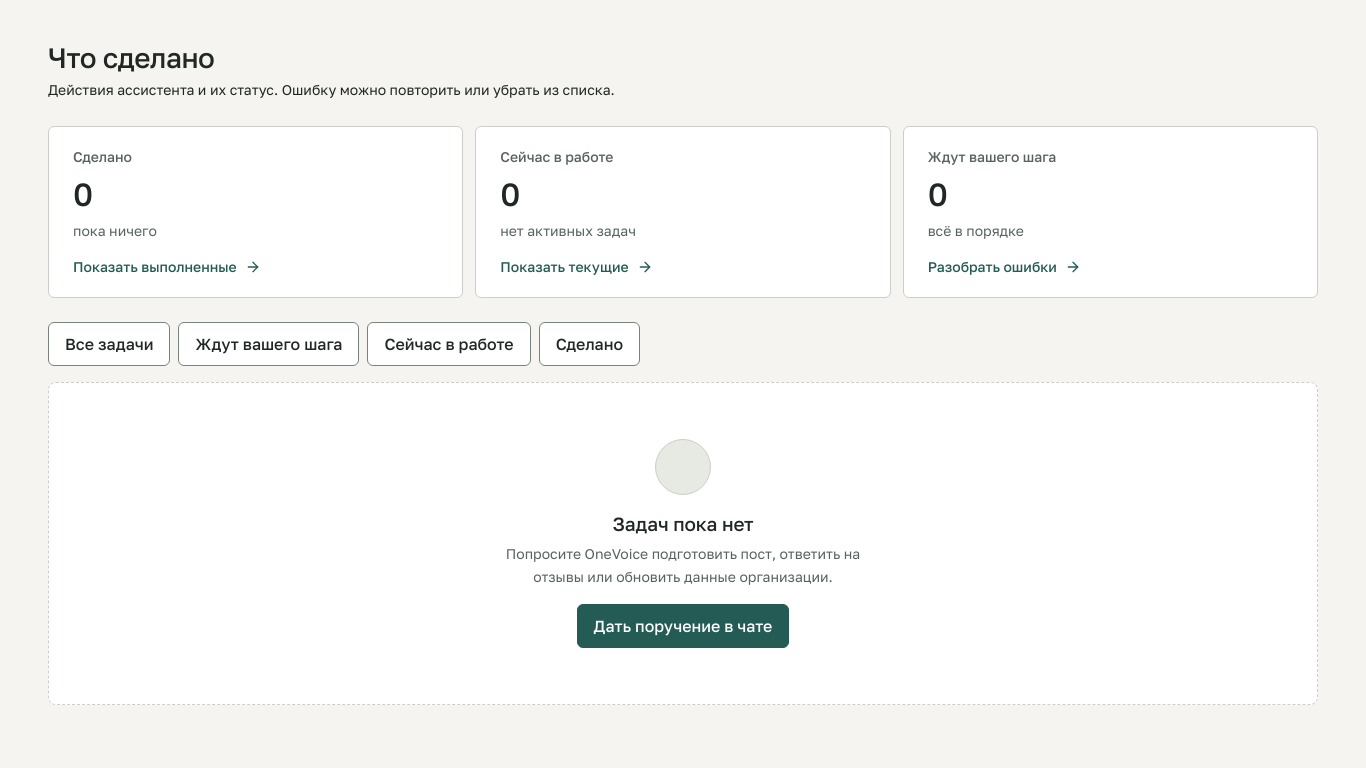
offers reset on an empty category and a chat CTA when there are no tasks
This screenshot has width=1366, height=768.
Click the button "Ждут вашего шага 0 всё в порядке Разобрать ошибки" at (992, 156), box 903,126 -> 1318,298
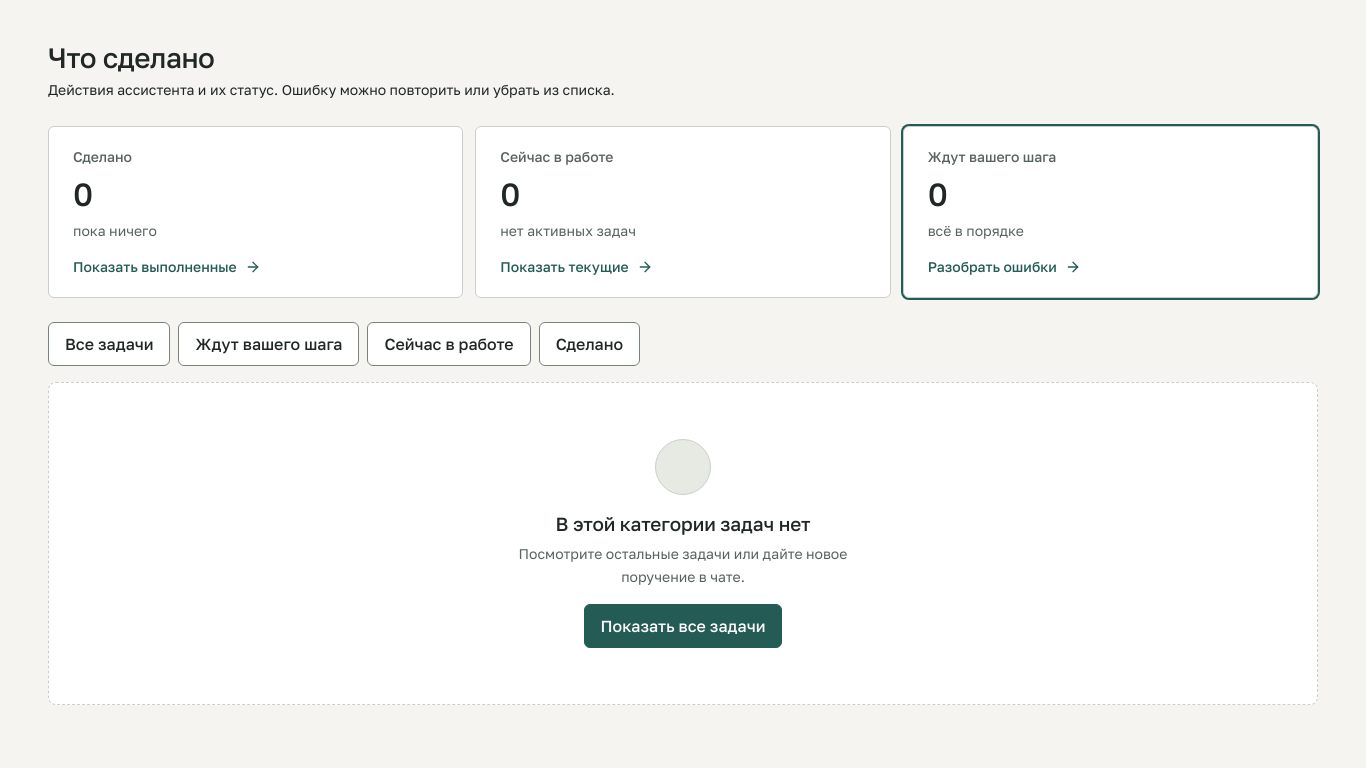
Click the button "Показать все задачи" at (683, 626), box 584,604 -> 782,648
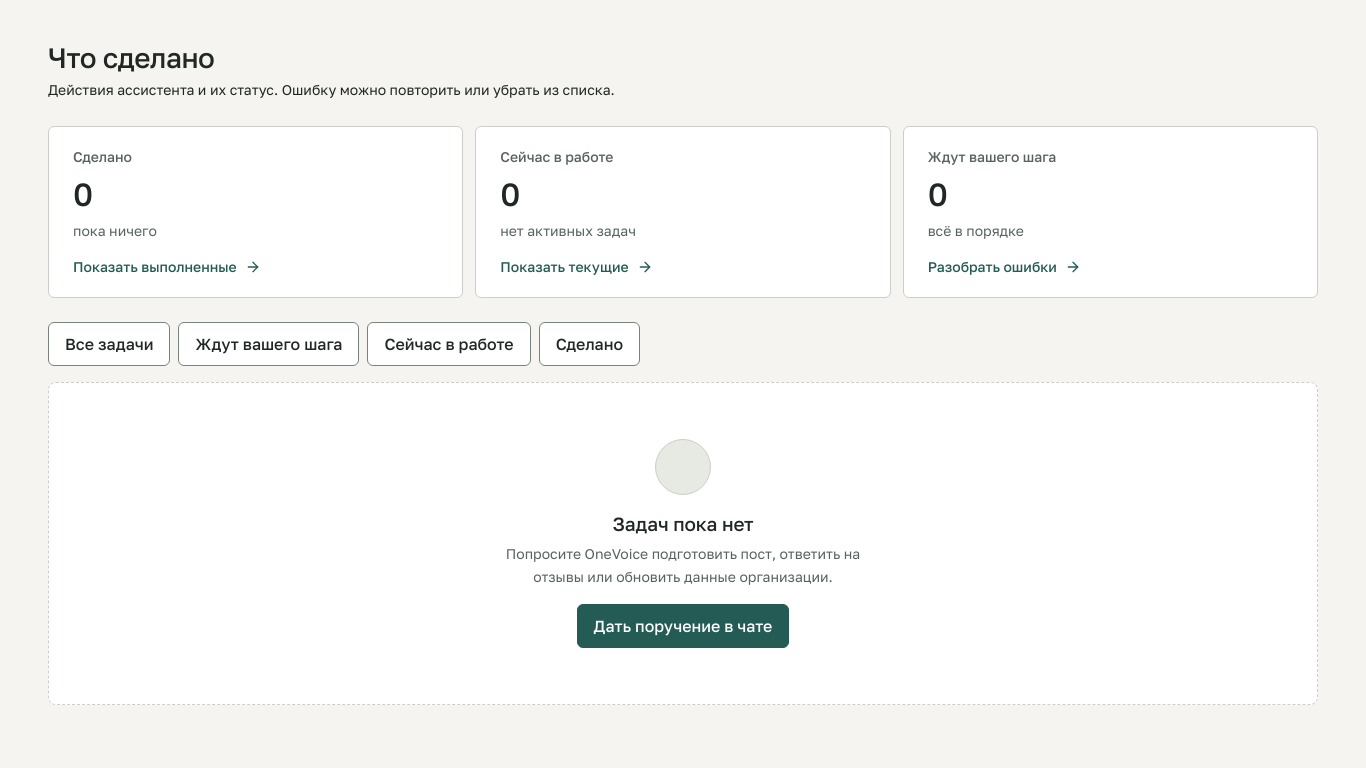
Expected: the link "Дать поручение в чате" is shown, 577,604 -> 789,648
